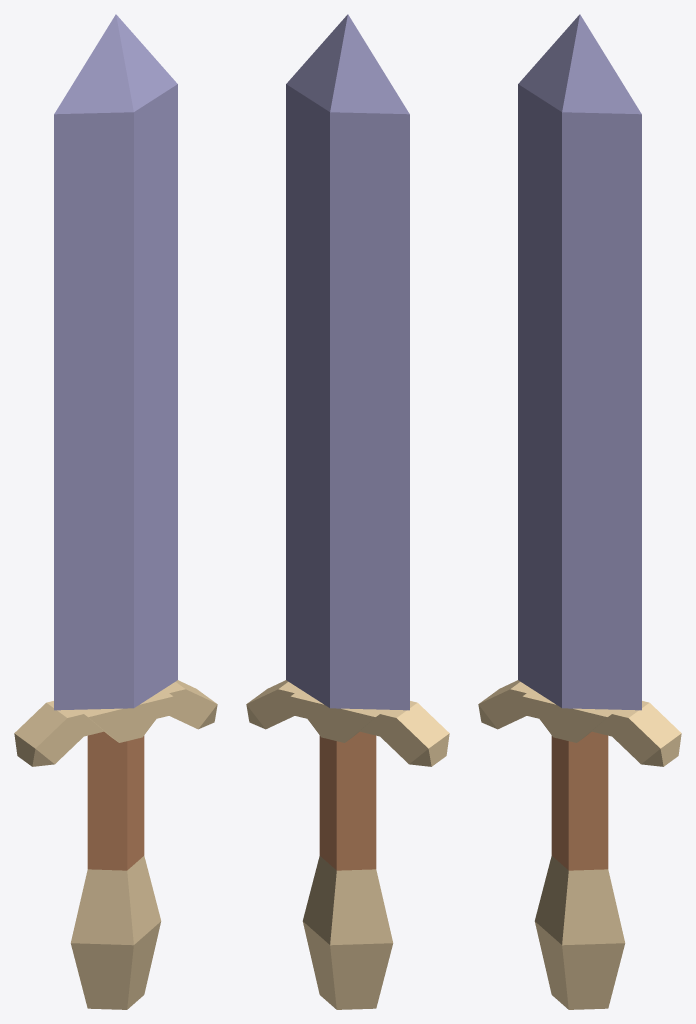
Rendered from Sword.fbx.
3 renders of one model, left to right at view 1: azimuth 30°, elevation 25°; view 2: azimuth 150°, elevation 25°; view 3: azimuth 330°, elevation 25°, orthographic.
Parts seen in each view (by area): view 1: mergedBlocks; view 2: mergedBlocks; view 3: mergedBlocks.
Part boxes in pixels (x1=…): mergedBlocks: x1=14, y1=14, x2=217, y2=1009; mergedBlocks: x1=246, y1=14, x2=449, y2=1009; mergedBlocks: x1=478, y1=14, x2=681, y2=1009.
Size of the model in its own units: 5.6 by 29 by 1.9.
